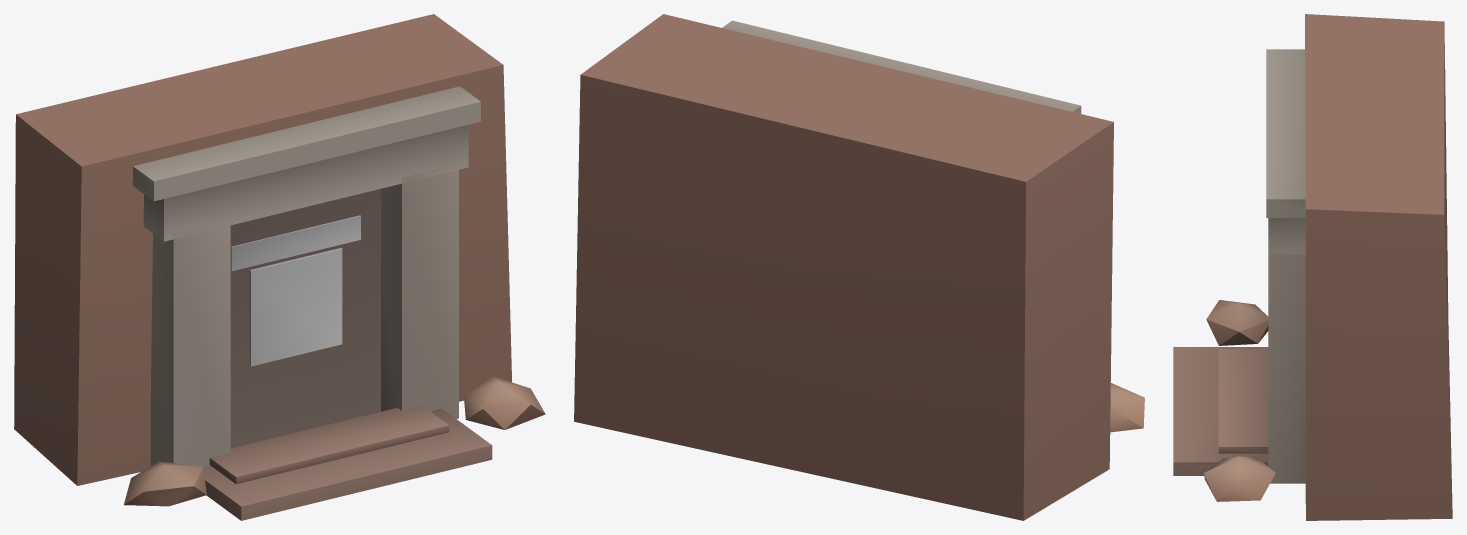
File: vault_door.glb
3 renders of one model, left to right at view 1: azimuth 30°, elevation 25°; view 2: azimuth 150°, elevation 25°; view 3: azimuth 270°, elevation 25°, orthographic. The views are drawn at different scales.
Visible parts, largest first — view 1: vault_door; view 2: vault_door; view 3: vault_door.
Part boxes in pixels (box(x1,y1,x2,y2)): vault_door: box(14, 14, 545, 520); vault_door: box(574, 14, 1144, 520); vault_door: box(1173, 14, 1452, 520).
Bounding box in the file's own units: 11.33 × 8.26 × 6.76.
